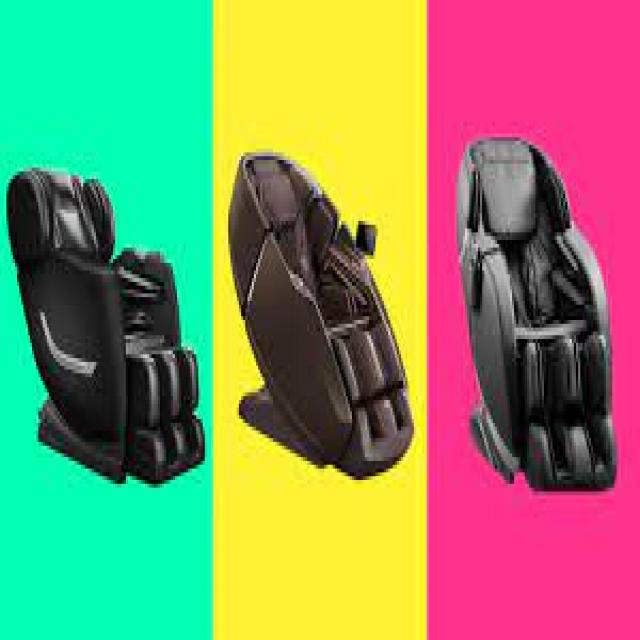chair: (4, 165, 207, 495), (226, 150, 414, 482), (454, 136, 622, 494)
